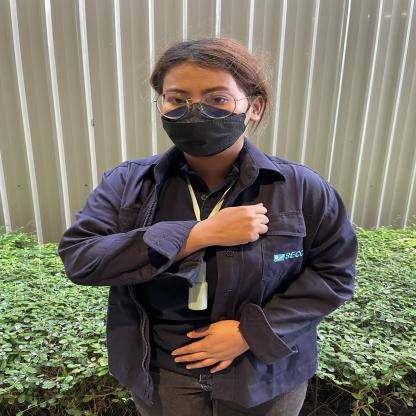Sadness: (43, 180, 291, 298), (76, 187, 88, 195), (64, 178, 73, 184)
